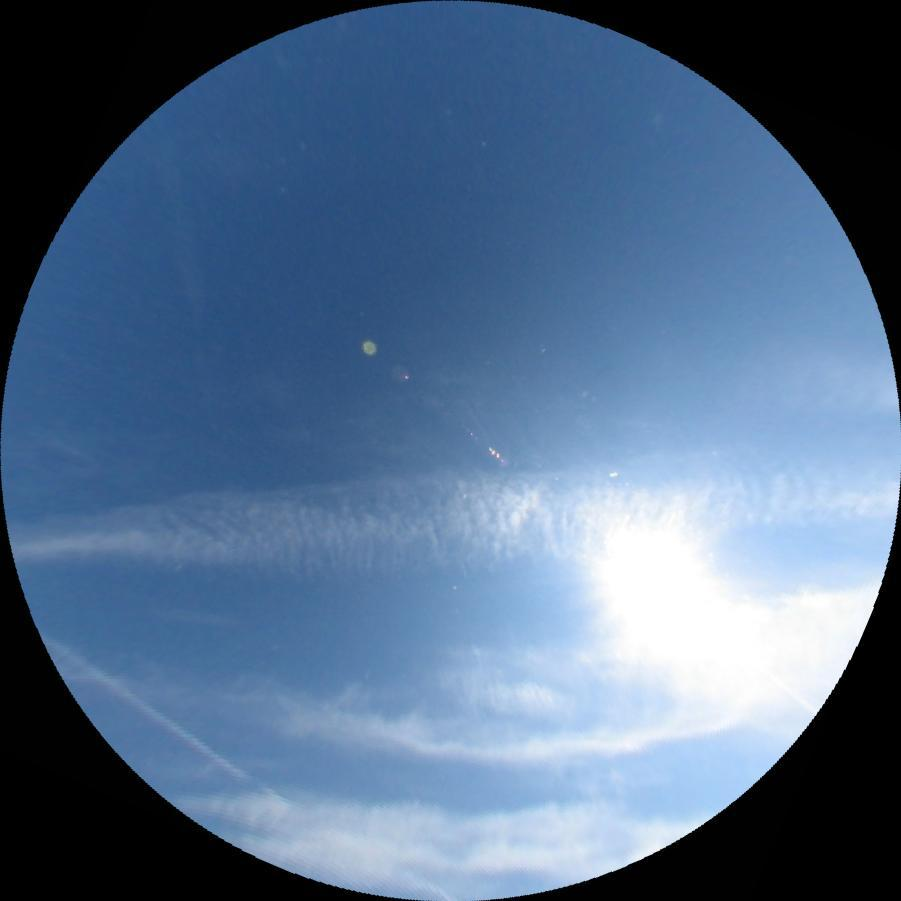contrail old: (37, 628, 281, 808)
contrail veryold: (4, 423, 901, 595)
sun: (589, 514, 747, 683)
